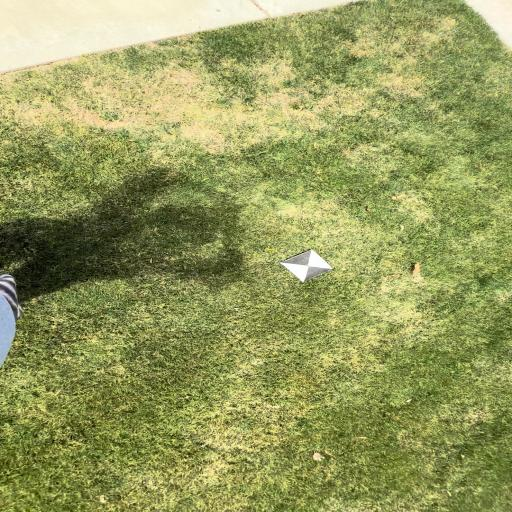target: (280, 249, 333, 282)
